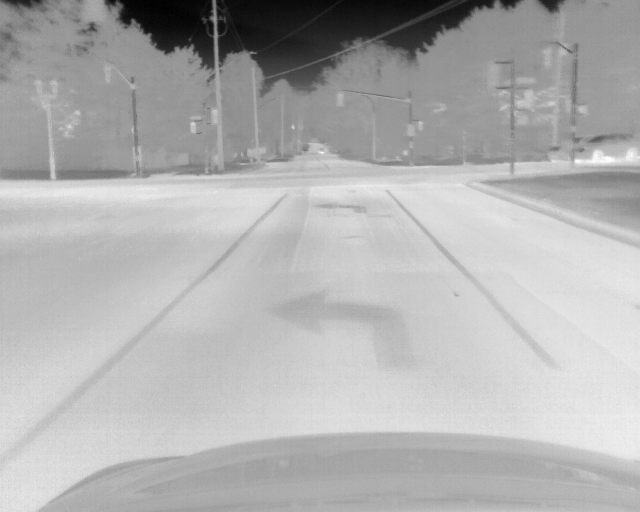car: (548, 133, 640, 161)
